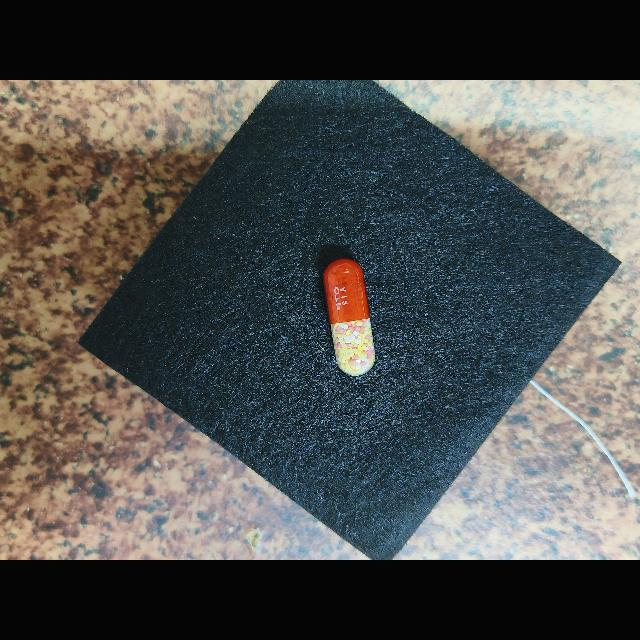Intact Capsule: (323, 258, 375, 376)
